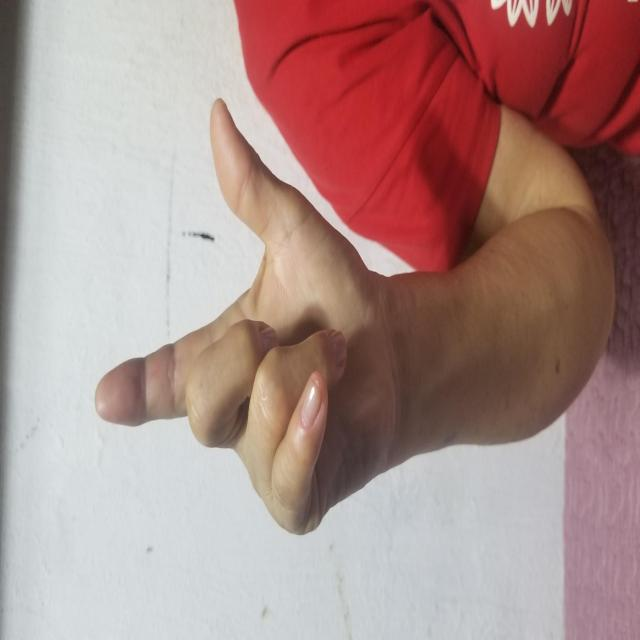L: (101, 95, 544, 383)
